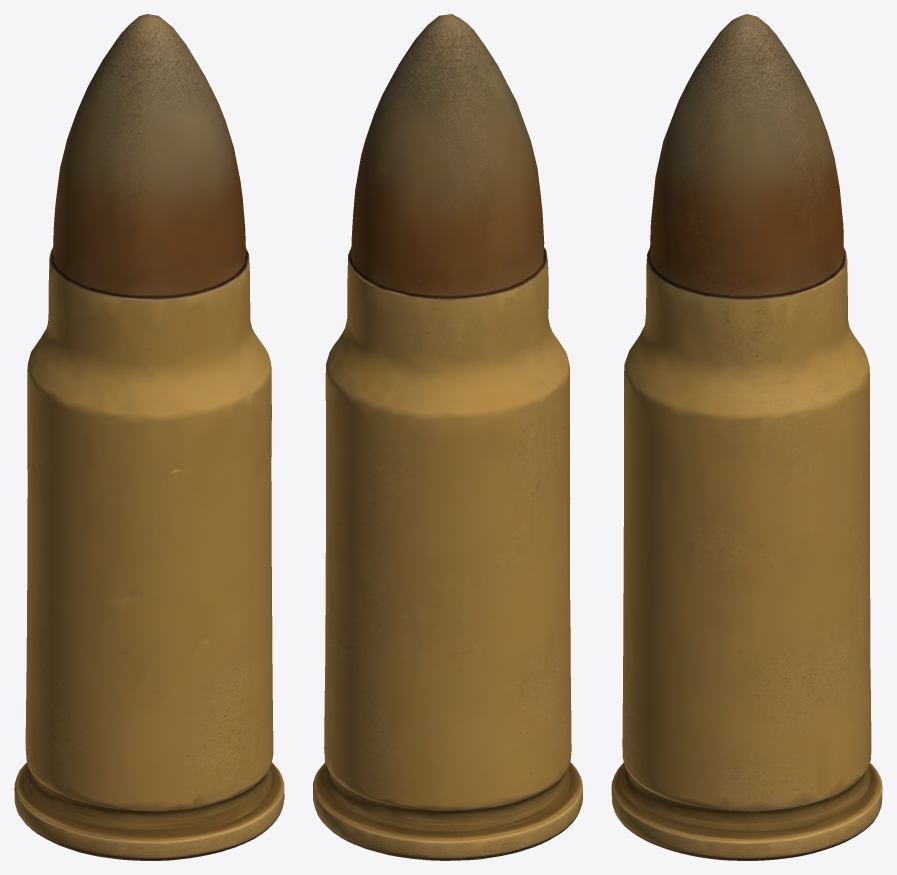
Rendered from bala.fbx.
3 renders of one model, left to right at view 1: azimuth 30°, elevation 25°; view 2: azimuth 150°, elevation 25°; view 3: azimuth 270°, elevation 25°, orthographic.
Visible parts, largest first — view 1: tripo_node_5dc06836-1b40-41b6-ad1e-b9a8ef3d7670; view 2: tripo_node_5dc06836-1b40-41b6-ad1e-b9a8ef3d7670; view 3: tripo_node_5dc06836-1b40-41b6-ad1e-b9a8ef3d7670.
Boxes of the visible parts, x1,y1,x2,y2 form: tripo_node_5dc06836-1b40-41b6-ad1e-b9a8ef3d7670: (14, 14, 284, 860); tripo_node_5dc06836-1b40-41b6-ad1e-b9a8ef3d7670: (313, 14, 582, 860); tripo_node_5dc06836-1b40-41b6-ad1e-b9a8ef3d7670: (611, 14, 882, 860).
Bounding box in the file's own units: 0.3091 × 1 × 0.3105.
Materials: 1 (1 with a texture image).
